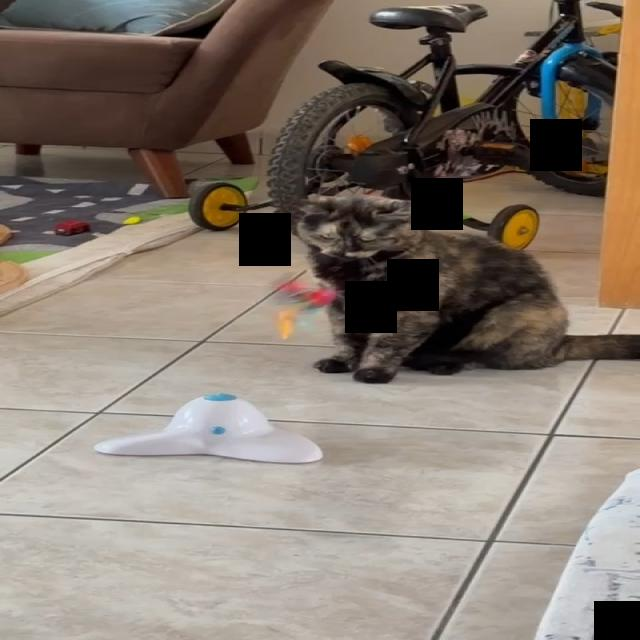authorized: (293, 192, 639, 383)
